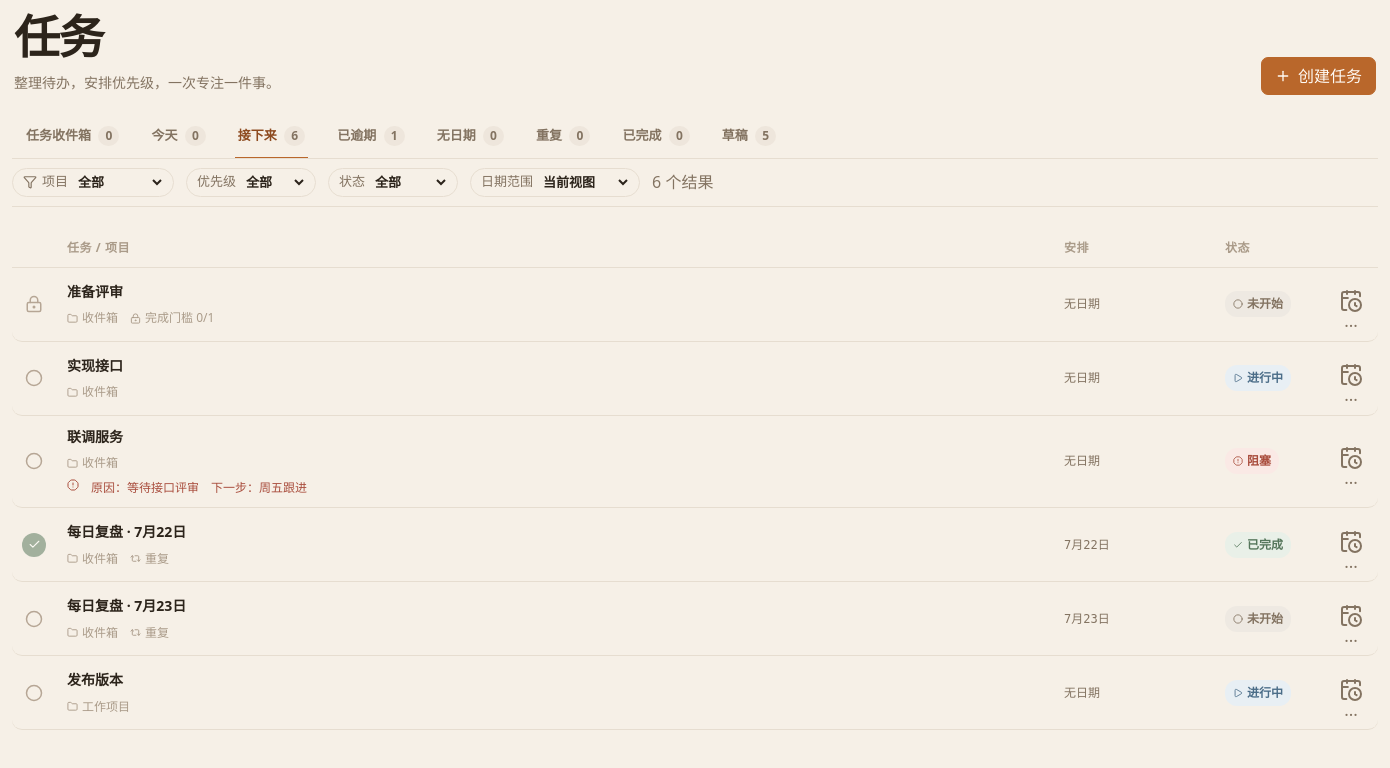
Scenario: Task occurrence workspace › shows and enforces completion requirements in the execution inspector
Expected: the button named "完成准备评审" is disabled, [22,292,46,316]
Click the text "准备评审".
click(95, 292)  # box [67,282,123,301]
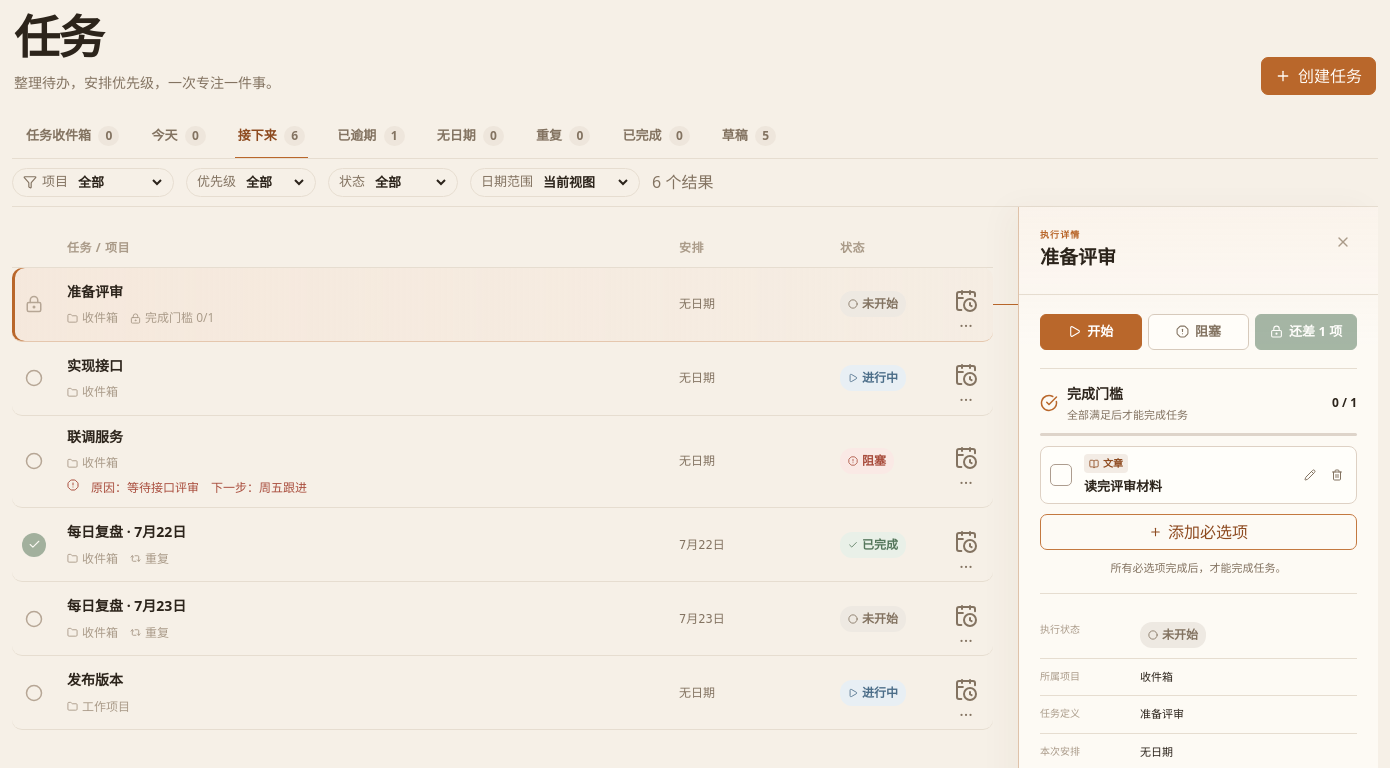
Expected: the text "完成门槛" is shown, [1067,387,1123,402]
Expected: the text "0 / 1" is shown, [1332,394,1357,412]
Expected: the button "还差 1 项" is disabled, [1255,314,1357,350]
